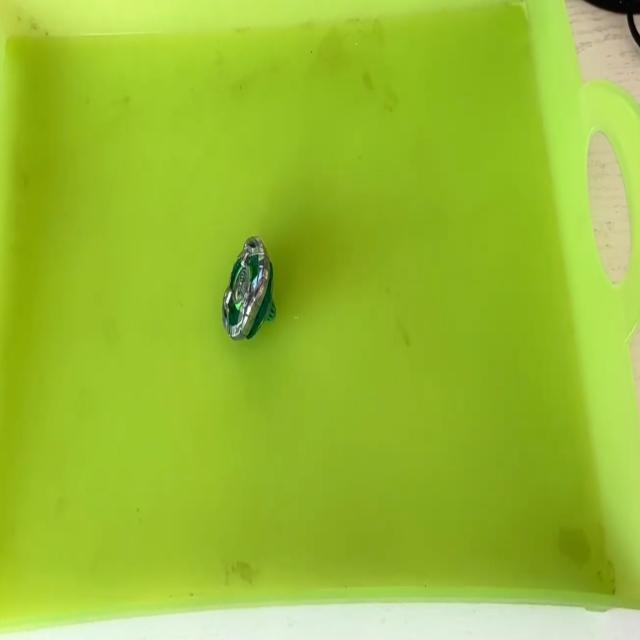Beyblade: (221, 235, 276, 341)
